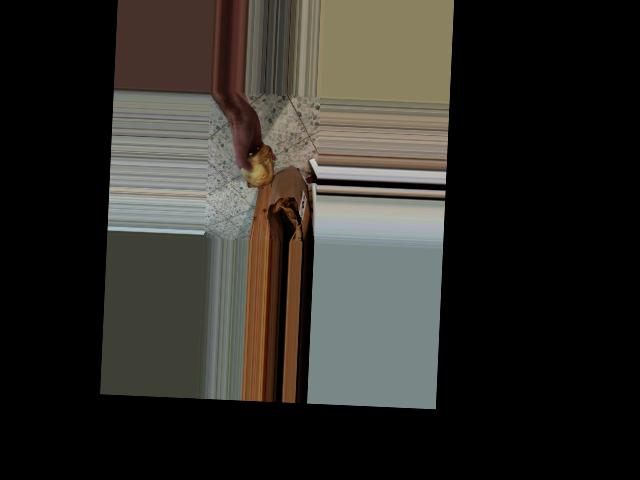onion: (239, 140, 277, 190)
